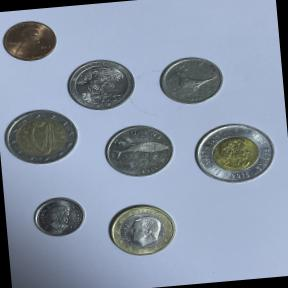coin: (183, 110, 288, 198), (98, 195, 190, 266), (0, 104, 82, 169), (99, 120, 182, 184), (60, 52, 140, 118), (0, 10, 65, 69), (28, 188, 96, 244)
